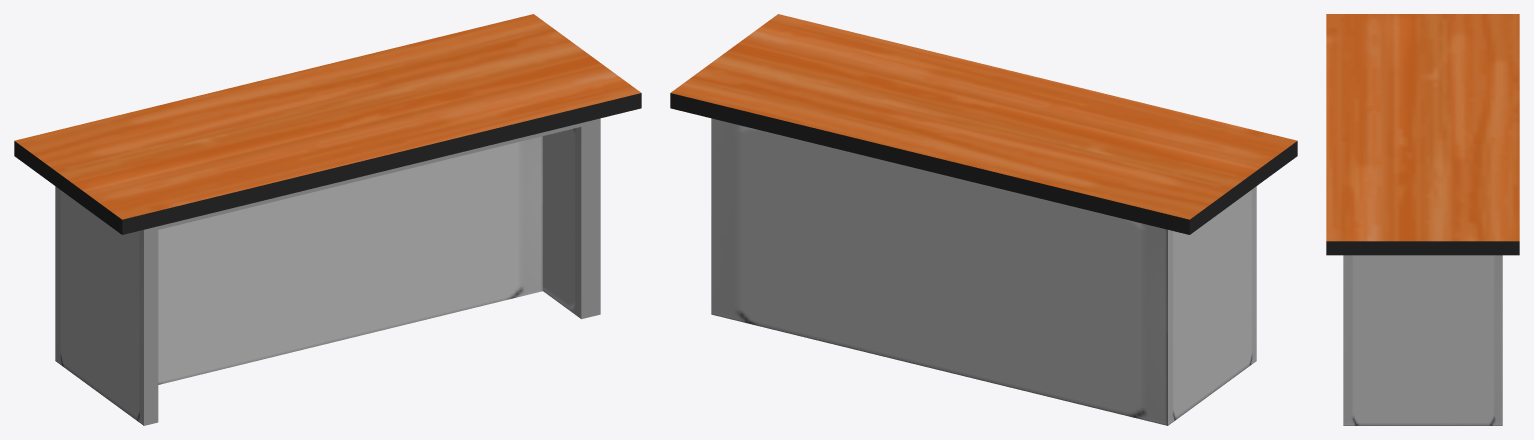
File: Kitchen_Island.fbx
3 views of the same model, side by side, from view 1: azimuth 30°, elevation 25°; view 2: azimuth 150°, elevation 25°; view 3: azimuth 270°, elevation 25° (orthographic). The views are drawn at different scales.
Parts seen in each view (by area): view 1: Kitchen_Island_1; view 2: Kitchen_Island_1; view 3: Kitchen_Island_1.
Boxes of the visible parts, x1=… form: Kitchen_Island_1: x1=14, y1=14, x2=641, y2=425; Kitchen_Island_1: x1=670, y1=14, x2=1297, y2=425; Kitchen_Island_1: x1=1326, y1=14, x2=1519, y2=425.
Size of the model in its own units: 2.55 by 1.04 by 0.9176.
